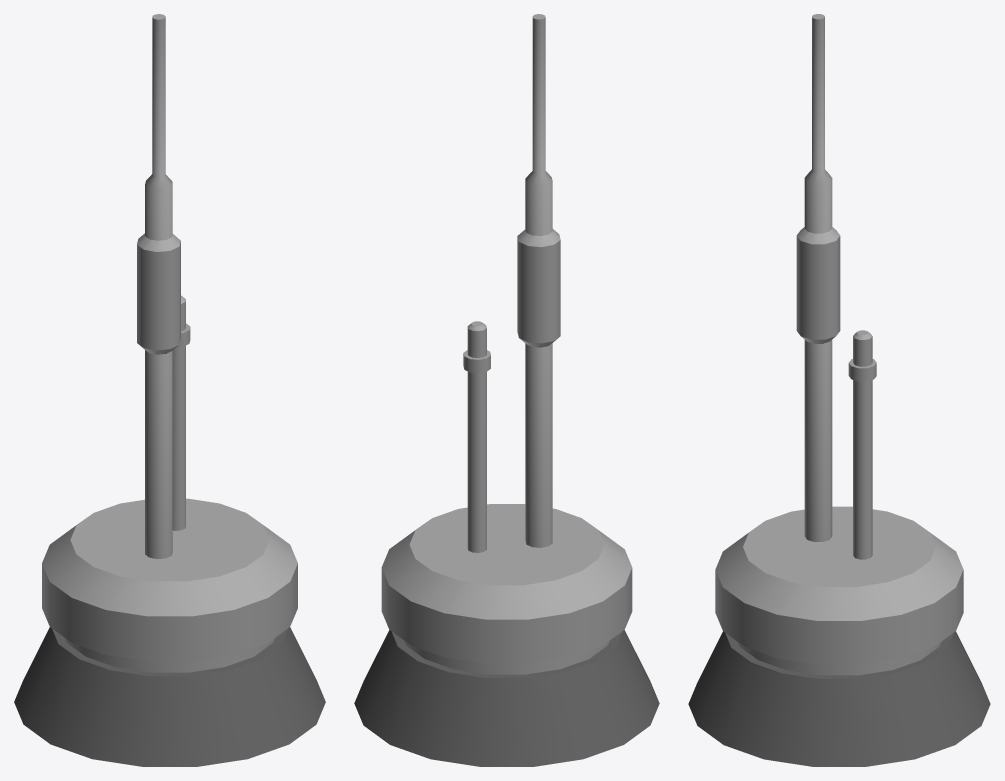
Rendered from Roof Antenna.glb.
3 renders of one model, left to right at view 1: azimuth 30°, elevation 25°; view 2: azimuth 150°, elevation 25°; view 3: azimuth 270°, elevation 25°, orthographic. The views are drawn at different scales.
Visible parts, largest first — view 1: Roof_Antenna; view 2: Roof_Antenna; view 3: Roof_Antenna.
Boxes of the visible parts, box(x1,y1,x2,y2) form: Roof_Antenna: box(14, 14, 325, 766); Roof_Antenna: box(354, 14, 659, 766); Roof_Antenna: box(688, 14, 990, 766).
Size of the model in its own units: 1.41 by 3.54 by 1.43.
Materials: 1 (1 with a texture image).
